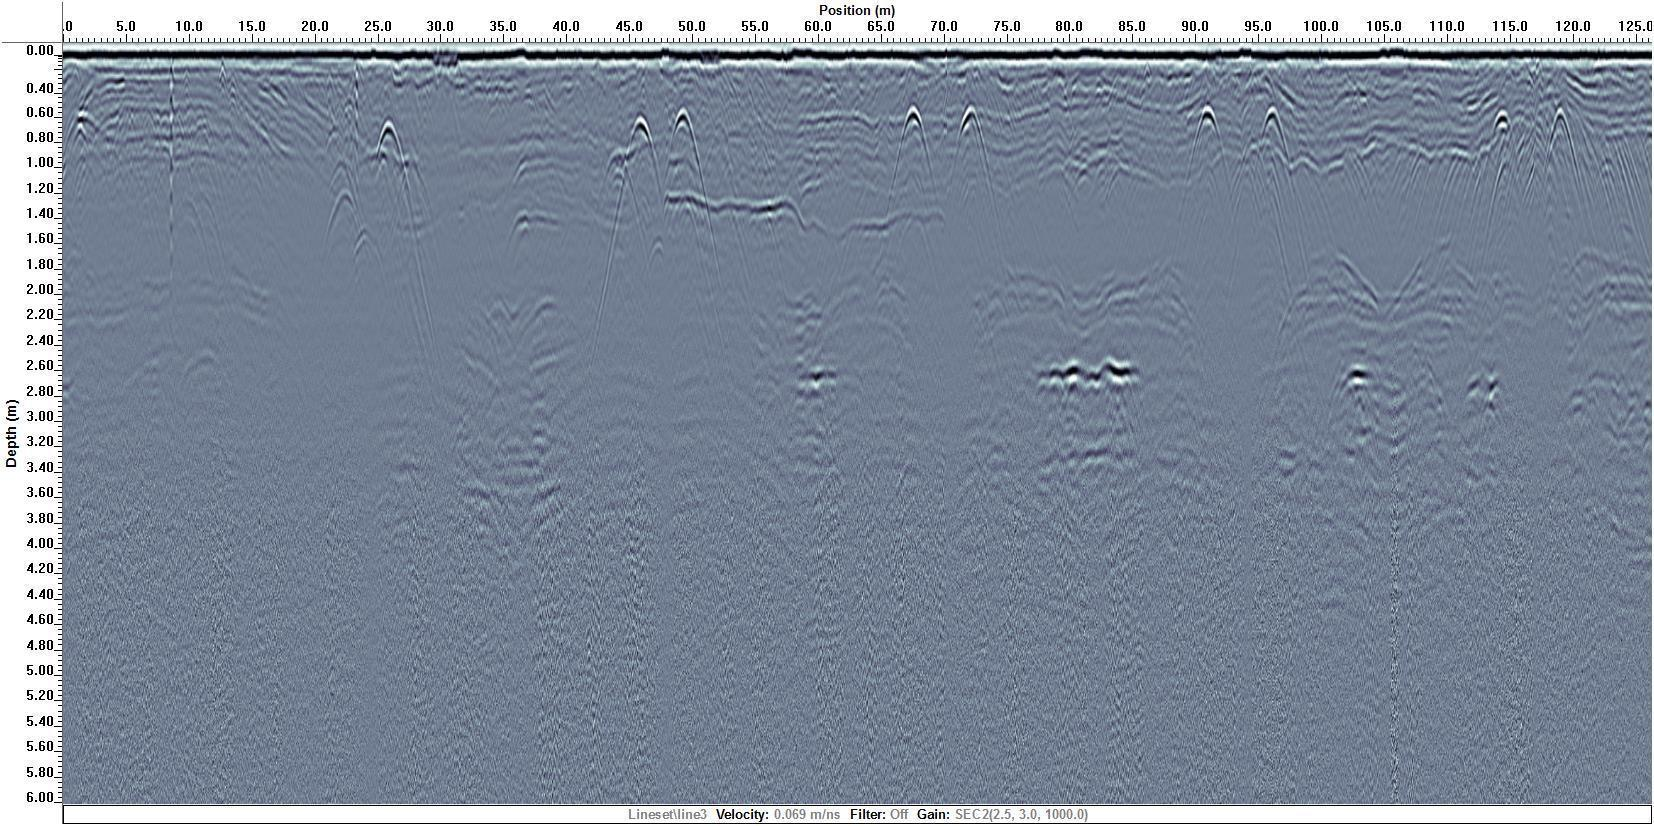Hyperbola: (590, 110, 667, 271), (302, 149, 391, 273), (361, 110, 441, 228), (62, 100, 116, 169)
